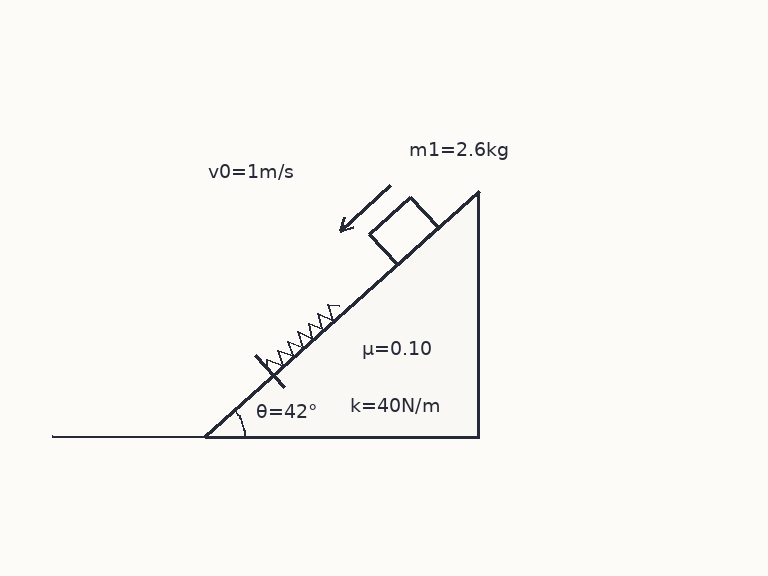block: (368, 194, 440, 266)
ramp: (203, 189, 480, 439)
spring: (265, 302, 340, 371)
